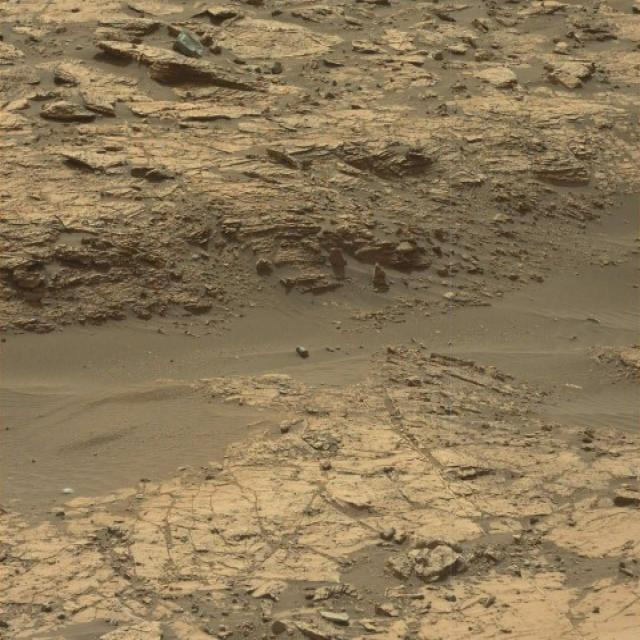rock: (172, 29, 202, 58)
